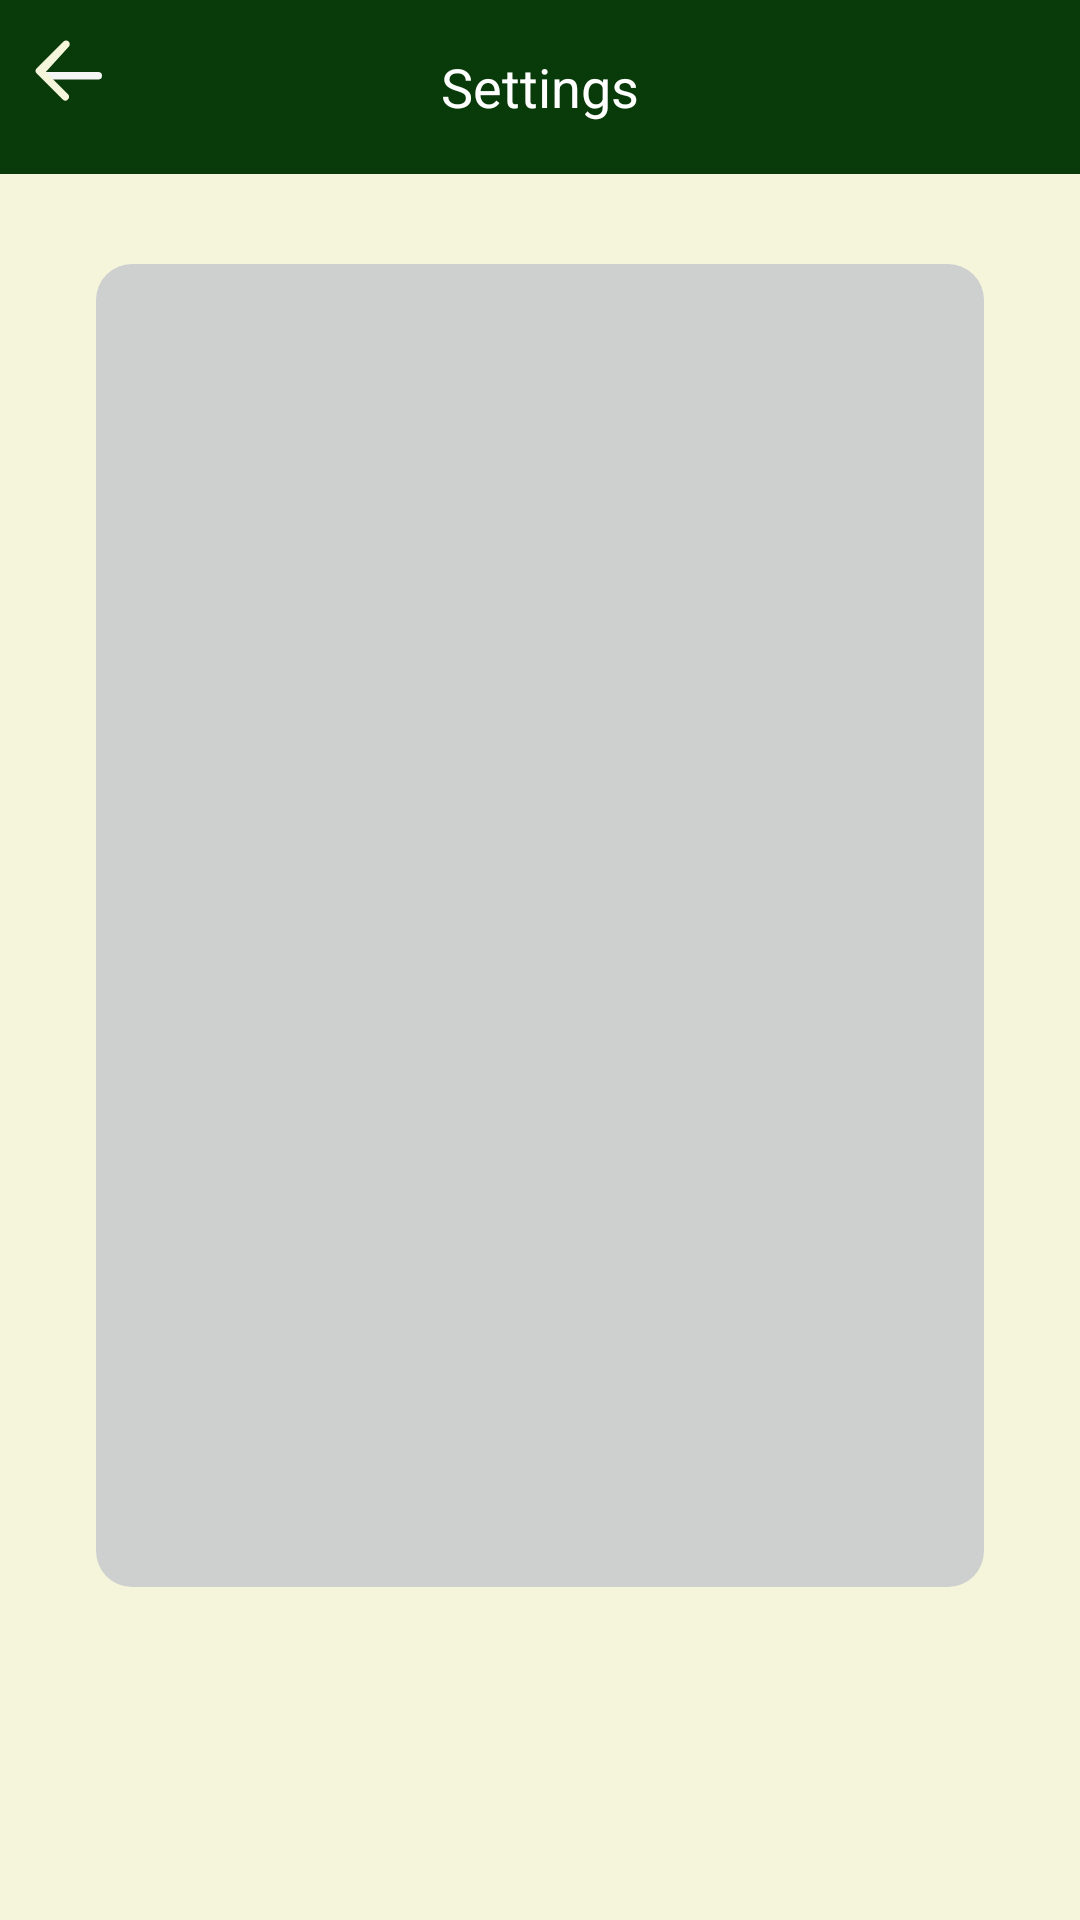

Icon click points for this 1080w x 1920h phone screenshot, format [x,y]:
Back: [68,70]
